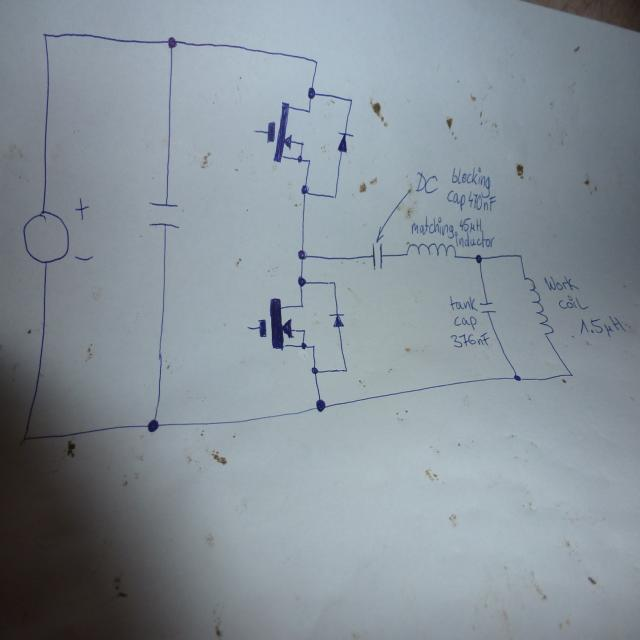capacitor: (147, 199, 181, 231), (371, 239, 384, 269), (478, 300, 498, 316)
diode: (335, 129, 354, 154), (328, 310, 346, 330)
inductor: (523, 276, 555, 336), (405, 240, 456, 260)
junction: (145, 415, 161, 434), (313, 397, 327, 414), (165, 34, 178, 51), (296, 247, 309, 262), (300, 183, 310, 198), (474, 252, 484, 266), (18, 432, 28, 446), (307, 85, 316, 99), (512, 372, 523, 383), (296, 274, 306, 286), (311, 364, 319, 376), (40, 29, 49, 39), (566, 368, 574, 379), (330, 278, 338, 287), (516, 251, 524, 259), (312, 56, 318, 66), (342, 364, 348, 373), (348, 96, 354, 104), (332, 192, 338, 200)
source: (19, 206, 71, 266)
terminal: (244, 323, 251, 331), (251, 126, 258, 134)
text: (450, 164, 491, 198), (576, 314, 627, 337), (410, 213, 454, 239), (446, 189, 496, 211), (453, 229, 494, 248), (542, 272, 579, 292), (448, 331, 490, 348), (414, 169, 438, 195), (447, 294, 478, 312), (558, 293, 588, 310), (458, 215, 482, 233), (452, 314, 477, 330)
transistor: (255, 296, 315, 352), (265, 100, 312, 165)
